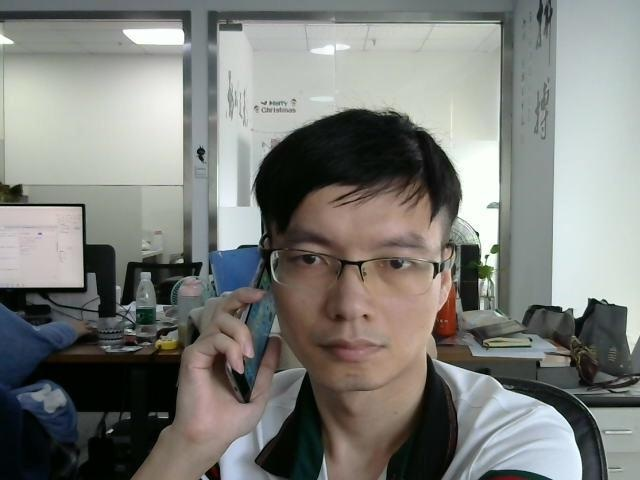hand: (184, 284, 286, 426)
